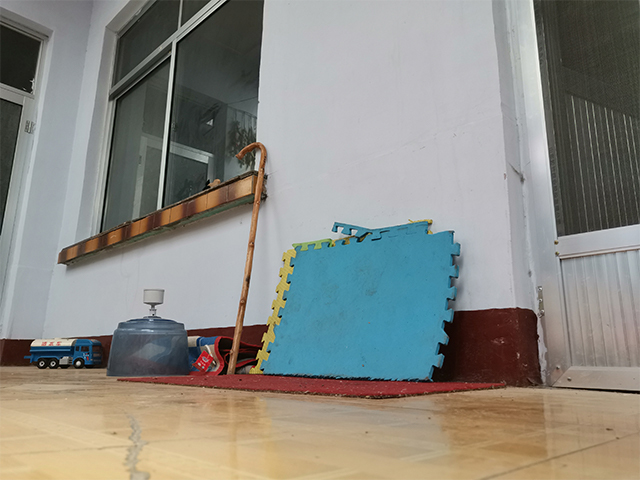carpet: (116, 372, 508, 400)
